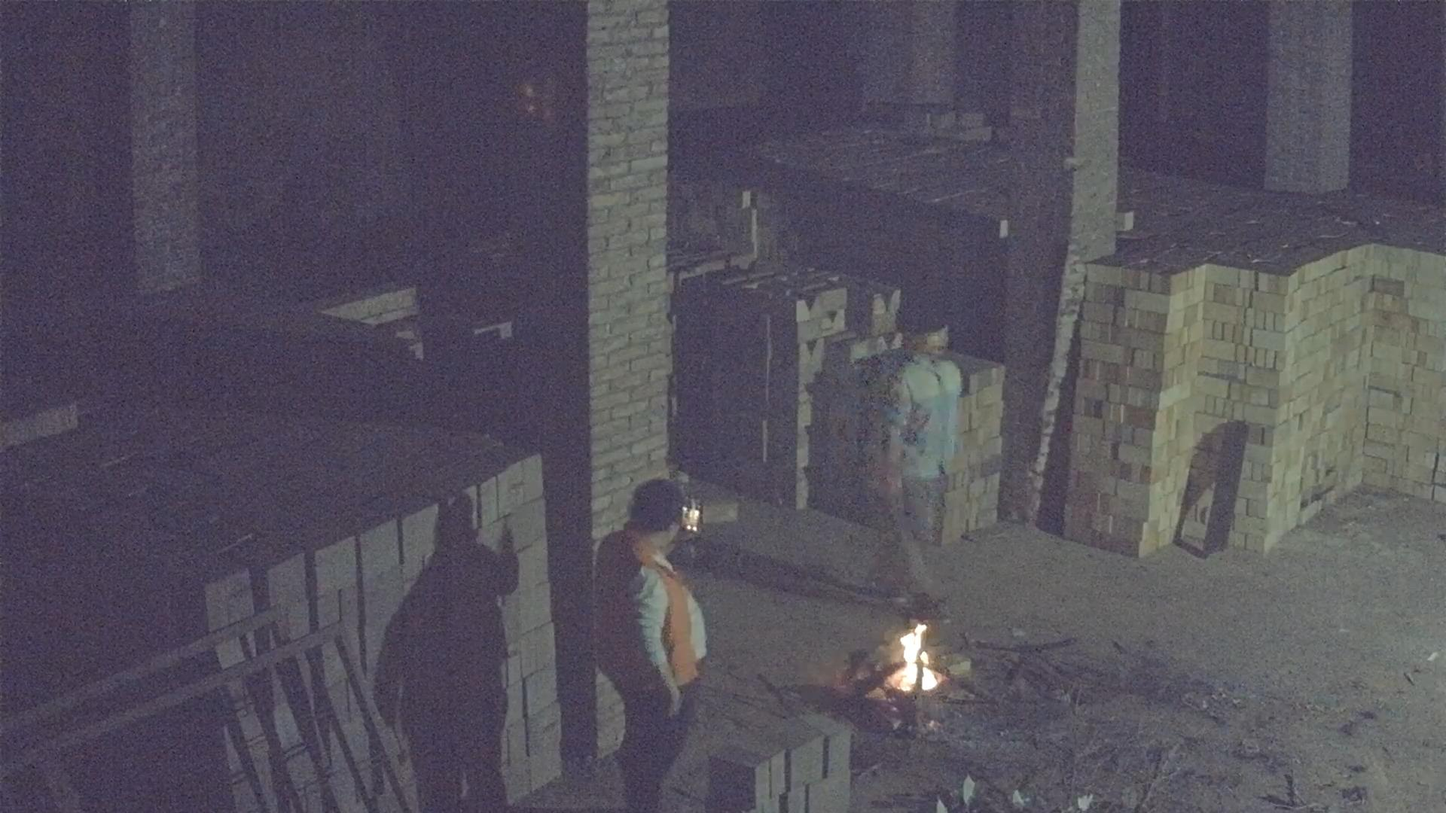fire: (888, 623, 940, 693)
